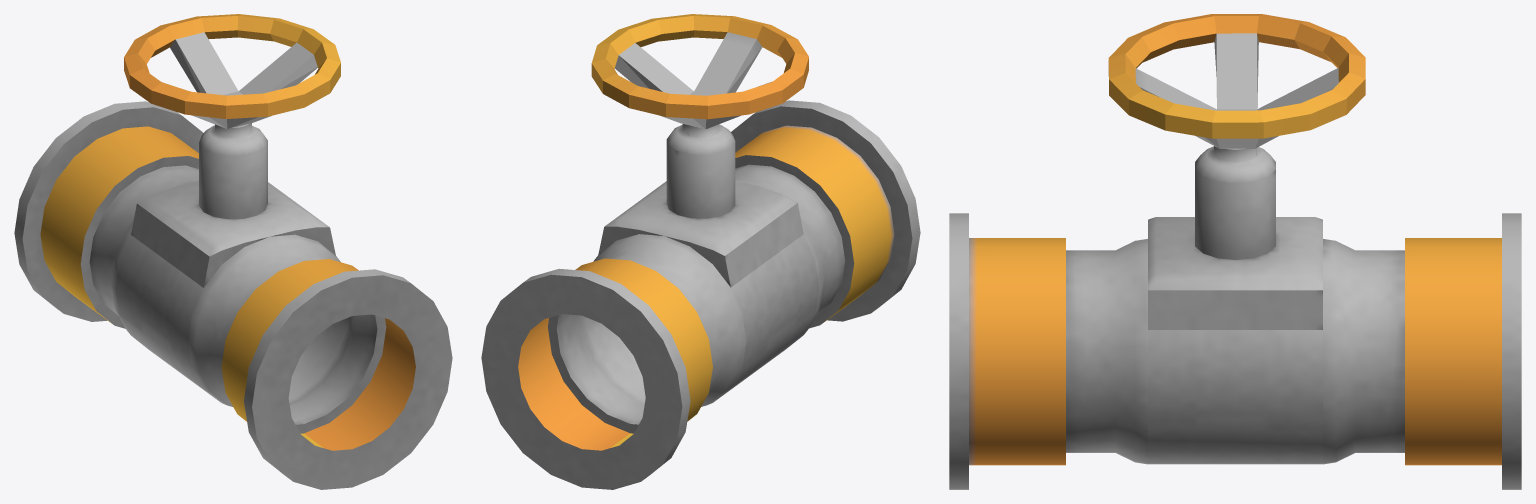
File: Tube_WaterTap_01.fbx
3 renders of one model, left to right at view 1: azimuth 30°, elevation 25°; view 2: azimuth 150°, elevation 25°; view 3: azimuth 270°, elevation 25°, orthographic. The views are drawn at different scales.
Visible parts, largest first — view 1: Tube_WaterTap, Valve1; view 2: Tube_WaterTap, Valve1; view 3: Tube_WaterTap, Valve1.
Part boxes in pixels (box(x1,y1,x2,y2)): Tube_WaterTap: box(14, 101, 452, 489); Valve1: box(124, 14, 340, 128); Tube_WaterTap: box(481, 100, 920, 489); Valve1: box(591, 14, 808, 129); Tube_WaterTap: box(949, 146, 1521, 489); Valve1: box(1108, 14, 1365, 148).
Size of the model in its own units: 6.82 by 11.19 by 14.
Materials: 1 (1 with a texture image).
